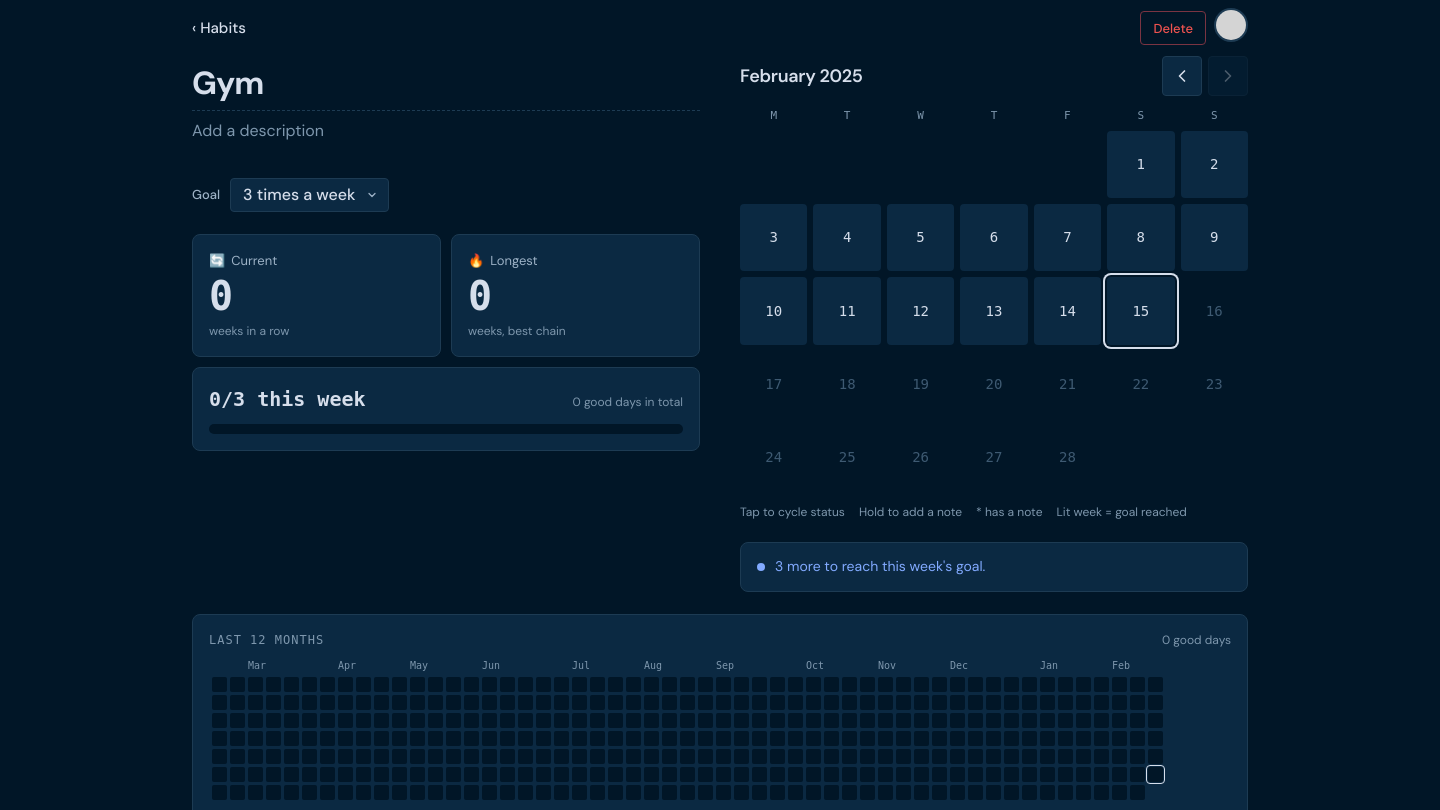
Test case: StreakTracker - Complete user journey › should roll back only the goal when saving it fails, keeping days marked meanwhile
This screenshot has width=1440, height=810.
Expected: the field showing "Gym" is shown, top-left (192, 56), bottom-right (700, 111)
Select "Every day" in the dropdown labelled "Goal". click: (310, 195)
box: top-left (230, 178), bottom-right (389, 212)
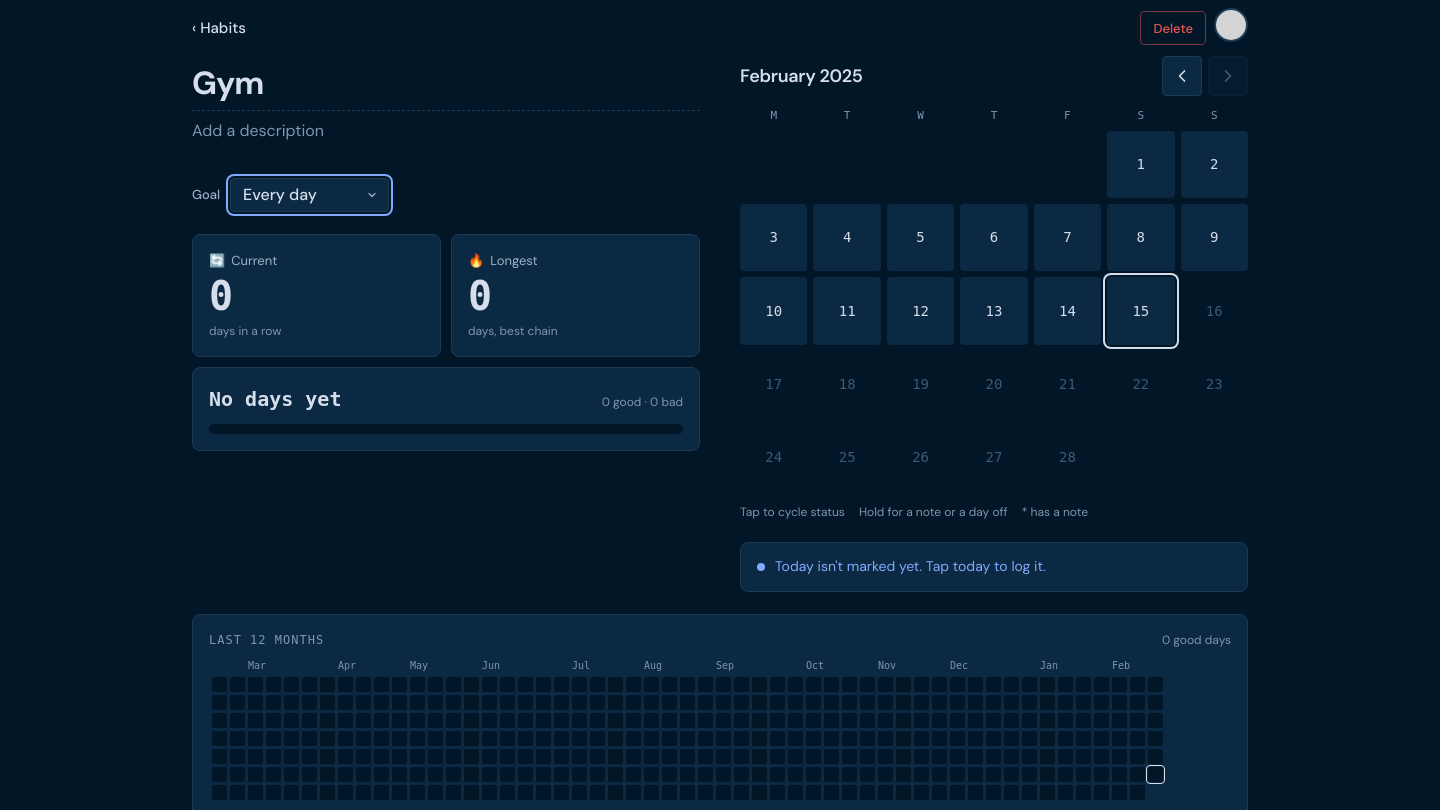
Click the text titled "Day 14". click: (1067, 311)
box: top-left (1034, 277), bottom-right (1101, 345)
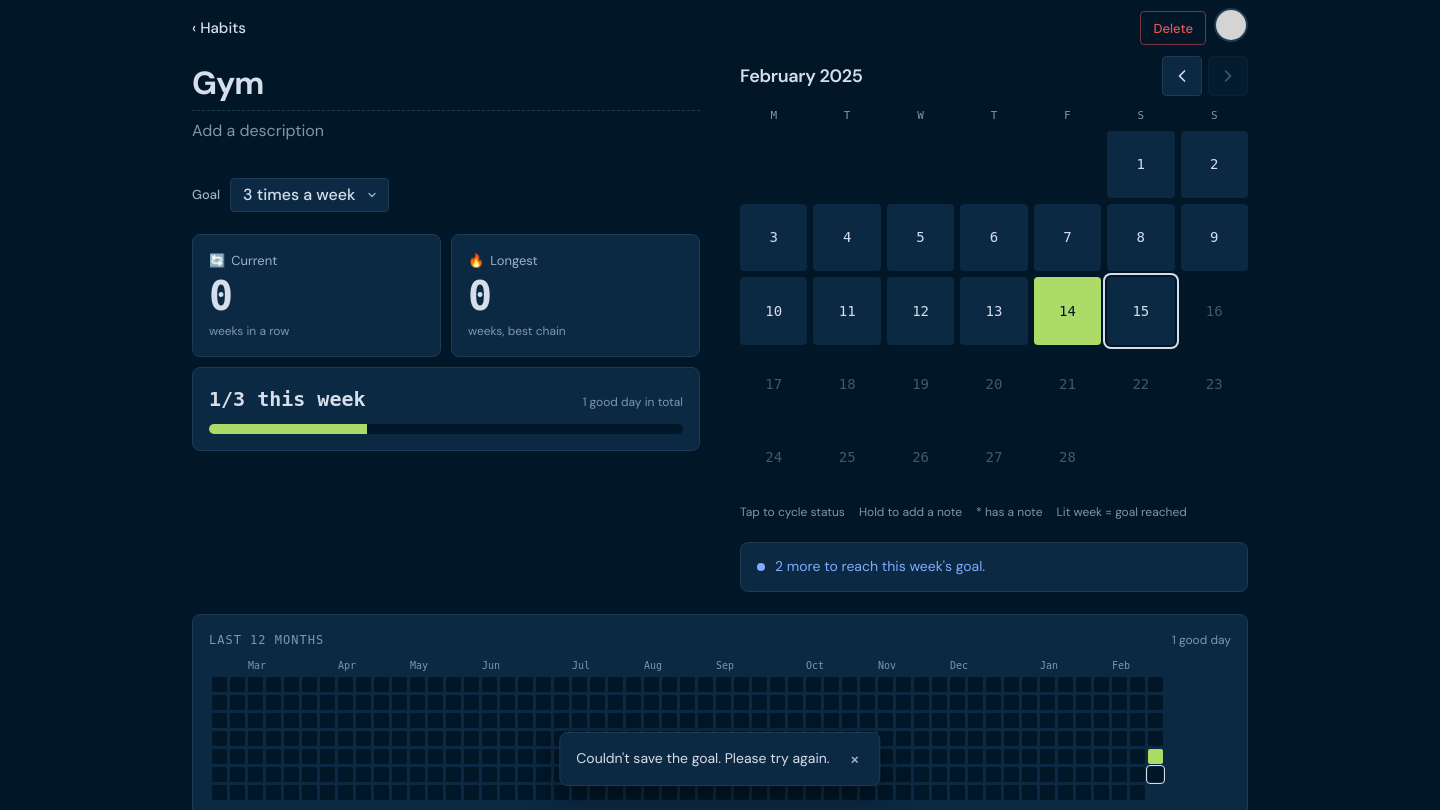
Expected: the text "1/3 this week" is shown, top-left (209, 384), bottom-right (366, 414)
